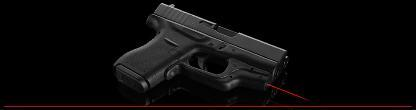pistol: (111, 5, 289, 91)
